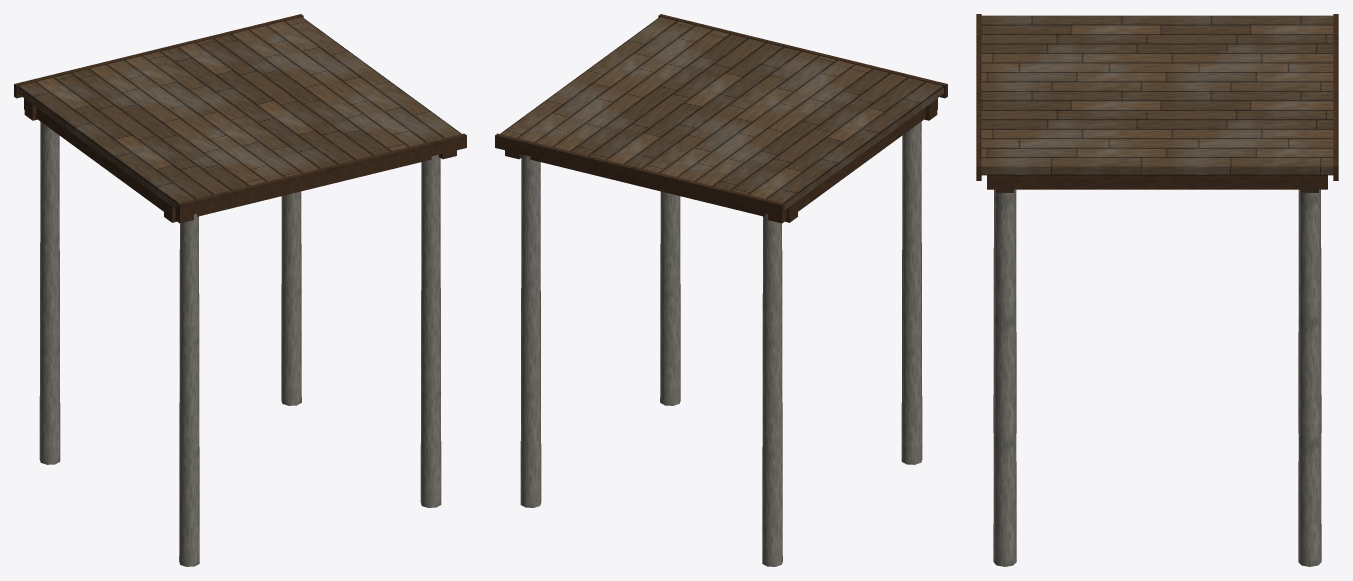
File: SM_Art_Pier_400x400x100_P500.gltf
The picture shows the model from 3 angles, left to right: view 1: azimuth 30°, elevation 25°; view 2: azimuth 150°, elevation 25°; view 3: azimuth 270°, elevation 25°; orthographic projection. The views are drawn at different scales.
Visible parts, largest first — view 1: SM_Art_Pier_400x400x100_P500; view 2: SM_Art_Pier_400x400x100_P500; view 3: SM_Art_Pier_400x400x100_P500.
Boxes of the visible parts, x1,y1,x2,y2 form: SM_Art_Pier_400x400x100_P500: (14,14,466,566); SM_Art_Pier_400x400x100_P500: (495,14,947,566); SM_Art_Pier_400x400x100_P500: (976,14,1338,566).
Bounding box in the file's own units: 4.04 × 5.01 × 4.04.
3 materials, 3 textured.
